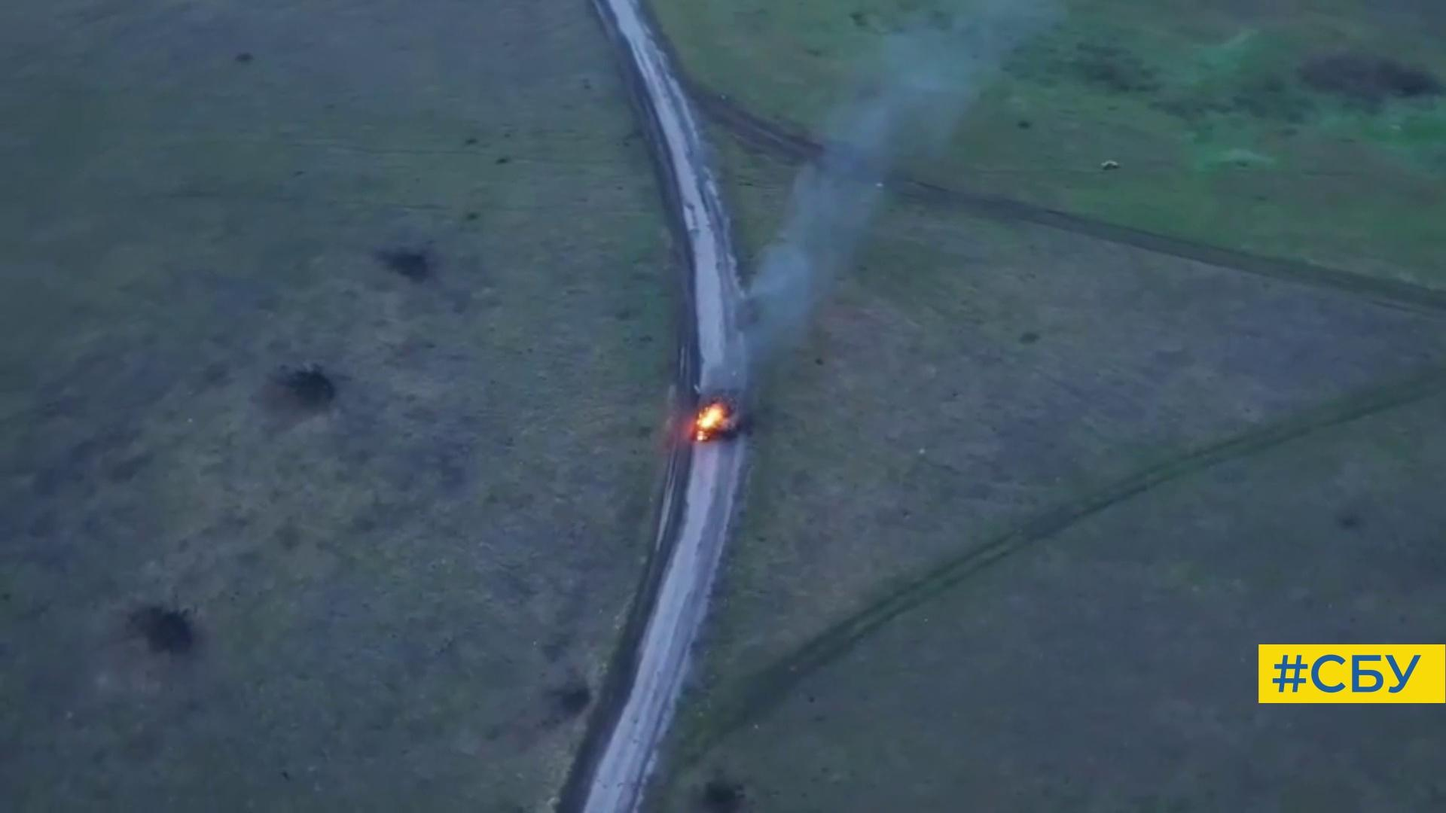vehicle: (698, 388, 746, 437)
